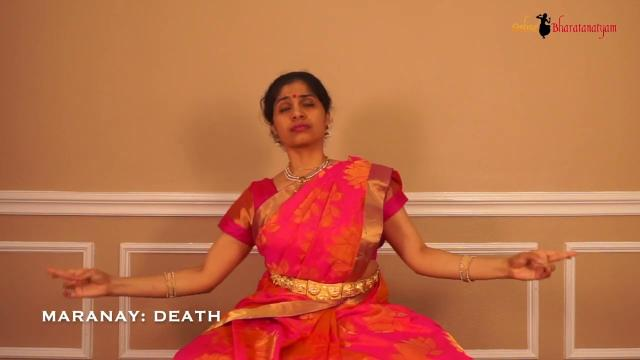kartarimukh: (466, 234, 588, 294), (38, 245, 144, 309)
